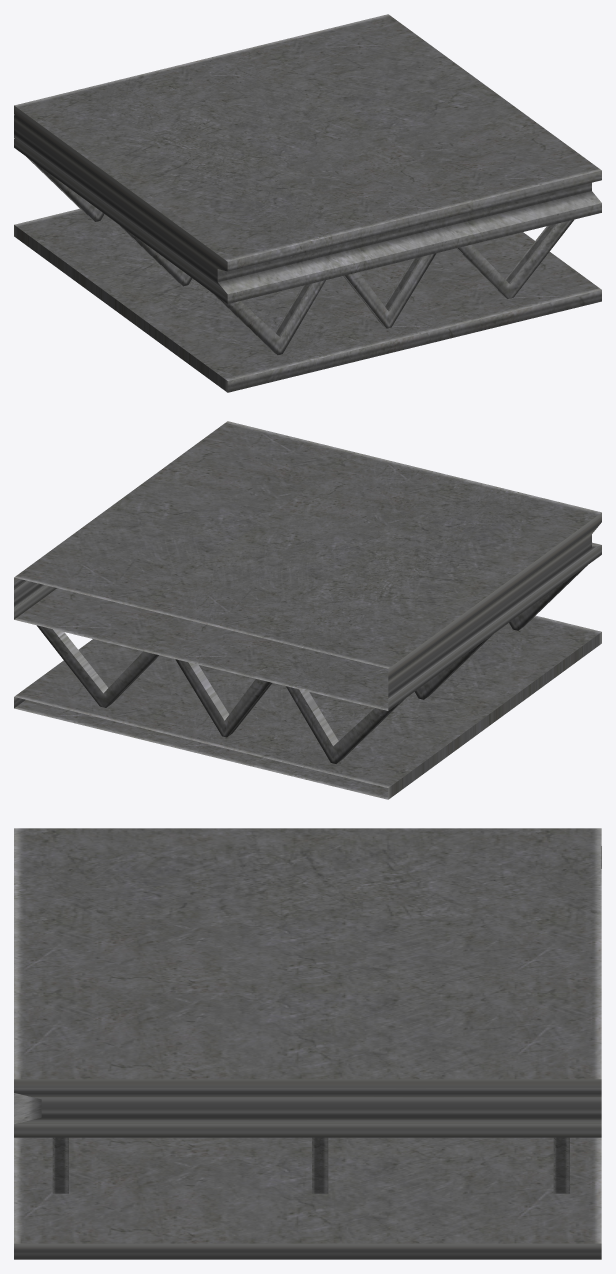
File: girder02.FBX
3 views of the same model, one above another, from view 1: azimuth 30°, elevation 25°; view 2: azimuth 150°, elevation 25°; view 3: azimuth 270°, elevation 25° (orthographic). The views are drawn at different scales.
Visible parts, largest first — view 1: girder02; view 2: girder02; view 3: girder02.
Part boxes in pixels (bbox=[...]): girder02: bbox=[14, 14, 601, 392]; girder02: bbox=[14, 421, 601, 799]; girder02: bbox=[14, 828, 601, 1259].
Bounding box in the file's own units: 71.86 × 24.03 × 71.08.
